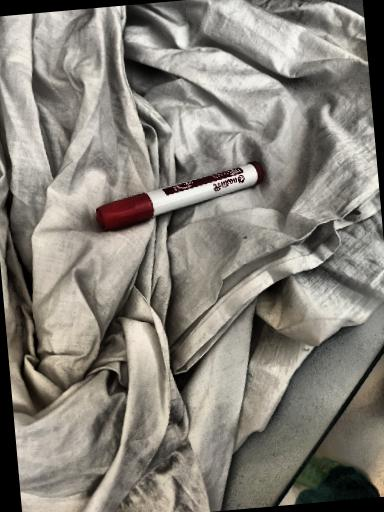marcador rojo: (95, 161, 264, 230)
